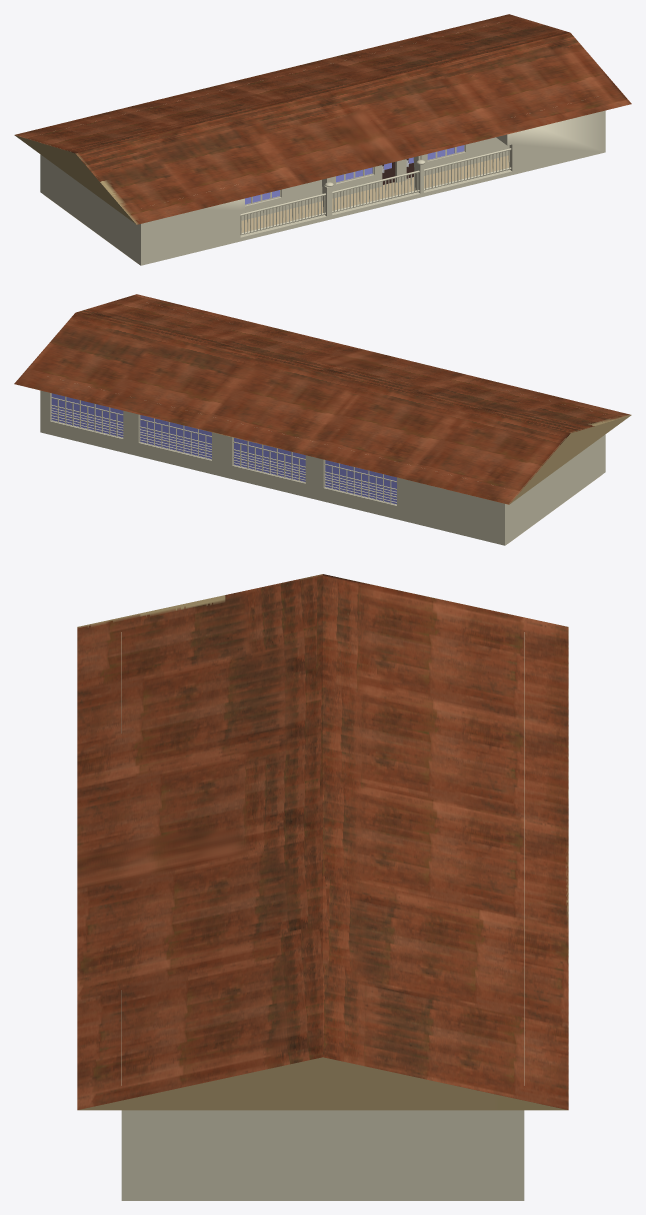
File: 4TH_FLR.fbx
3 renders of one model, top to bottom at view 1: azimuth 30°, elevation 25°; view 2: azimuth 150°, elevation 25°; view 3: azimuth 270°, elevation 25°, orthographic. The views are drawn at different scales.
Visible parts, largest first — view 1: Roof, Wall.066, Fence, Wall.065, Hallway Plane, Wall.060, Wall.061, Wall.063; view 2: Roof, Wall.067, Wall.065, WindowPanes.005, WindowPanes.003, WindowPanes.006, WindowPanes.004, WindowHole.013, WindowHole.009, Window, WindowHole.008; view 3: Roof, Wall.064, Wall.067, Wall.066.
Boxes of the visible parts, left/top/right/bottom form: Roof: left=14, top=14, right=631, bottom=224; Wall.066: left=138, top=110, right=605, bottom=265; Fence: left=240, top=148, right=511, bottom=235; Wall.065: left=43, top=156, right=138, bottom=263; Hallway Plane: left=241, top=160, right=502, bottom=232; Wall.060: left=403, top=137, right=509, bottom=180; Wall.061: left=310, top=161, right=398, bottom=203; Wall.063: left=240, top=183, right=306, bottom=220; Roof: left=14, top=294, right=631, bottom=504; Wall.067: left=40, top=390, right=507, bottom=545; Wall.065: left=507, top=436, right=602, bottom=543; WindowPanes.005: left=140, top=415, right=211, bottom=459; WindowPanes.003: left=325, top=460, right=396, bottom=504; WindowPanes.006: left=51, top=393, right=123, bottom=437; WindowPanes.004: left=234, top=438, right=305, bottom=481; WindowHole.013: left=50, top=393, right=123, bottom=438; WindowHole.009: left=233, top=437, right=305, bottom=482; Window: left=139, top=414, right=211, bottom=459; WindowHole.008: left=324, top=460, right=396, bottom=504; Roof: left=77, top=574, right=568, bottom=1110; Wall.064: left=132, top=1110, right=513, bottom=1200; Wall.067: left=513, top=632, right=524, bottom=1200; Wall.066: left=121, top=632, right=132, bottom=1200.
Size of the model in its own units: 2700 by 414 by 1160.
Materials: 7 (5 with a texture image).
